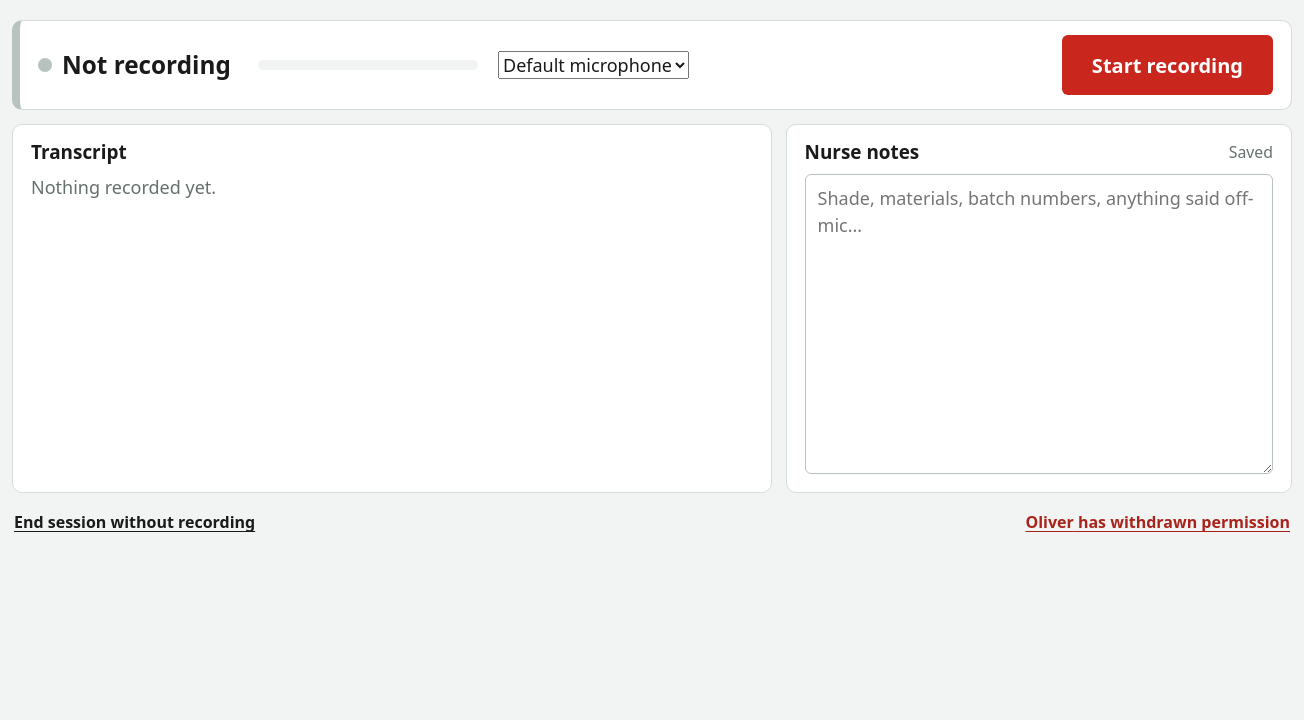
Scenario: scribe workspace › withdrawal stops at once and deletes the transcript and nurse notes
Click the button "Start recording" at (1167, 65), box 1062,35 -> 1273,95
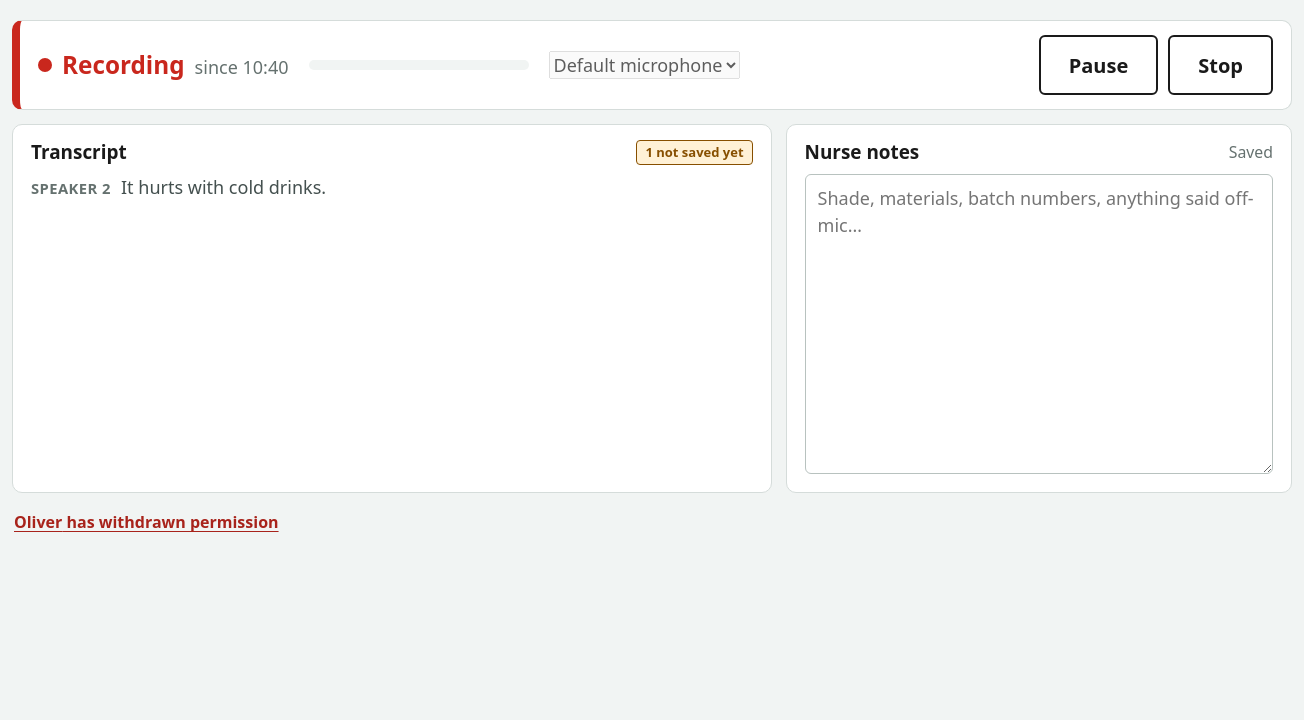
Click the button "Oliver has withdrawn permission" at (146, 523), box 12,507 -> 281,539
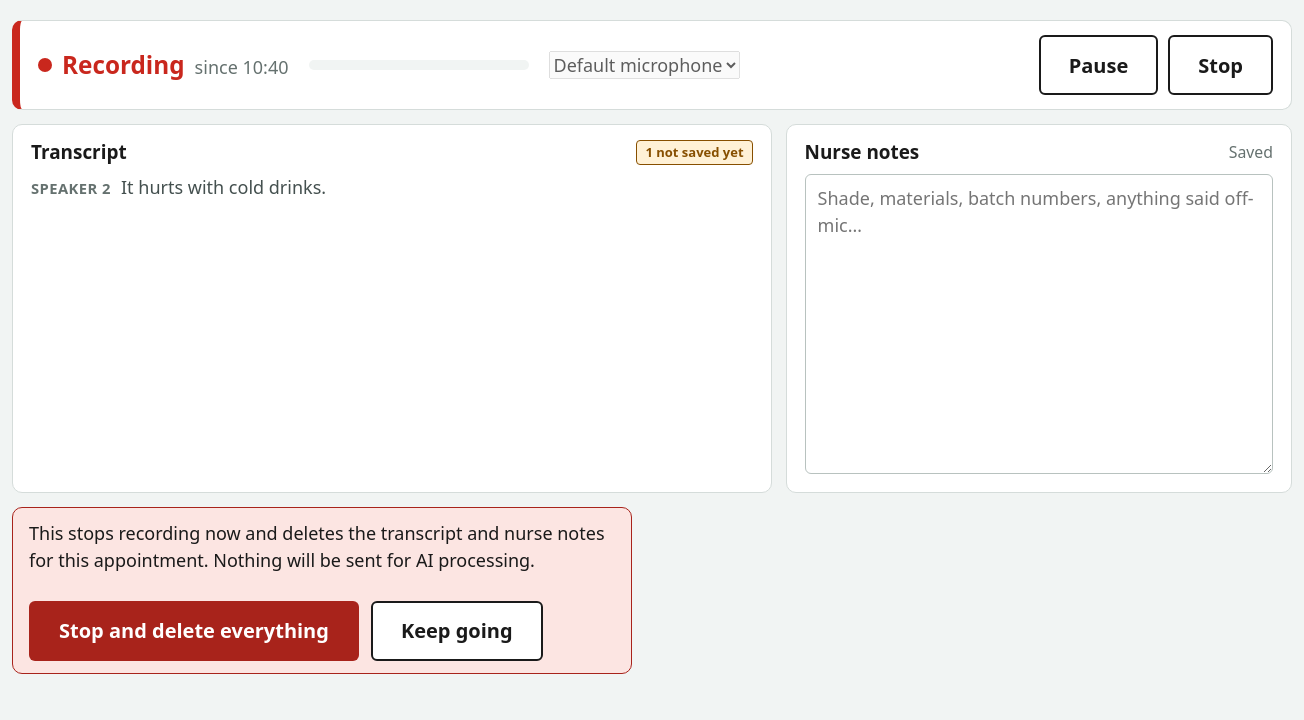
Click the button "Stop and delete everything" at (194, 631), box 29,601 -> 359,661
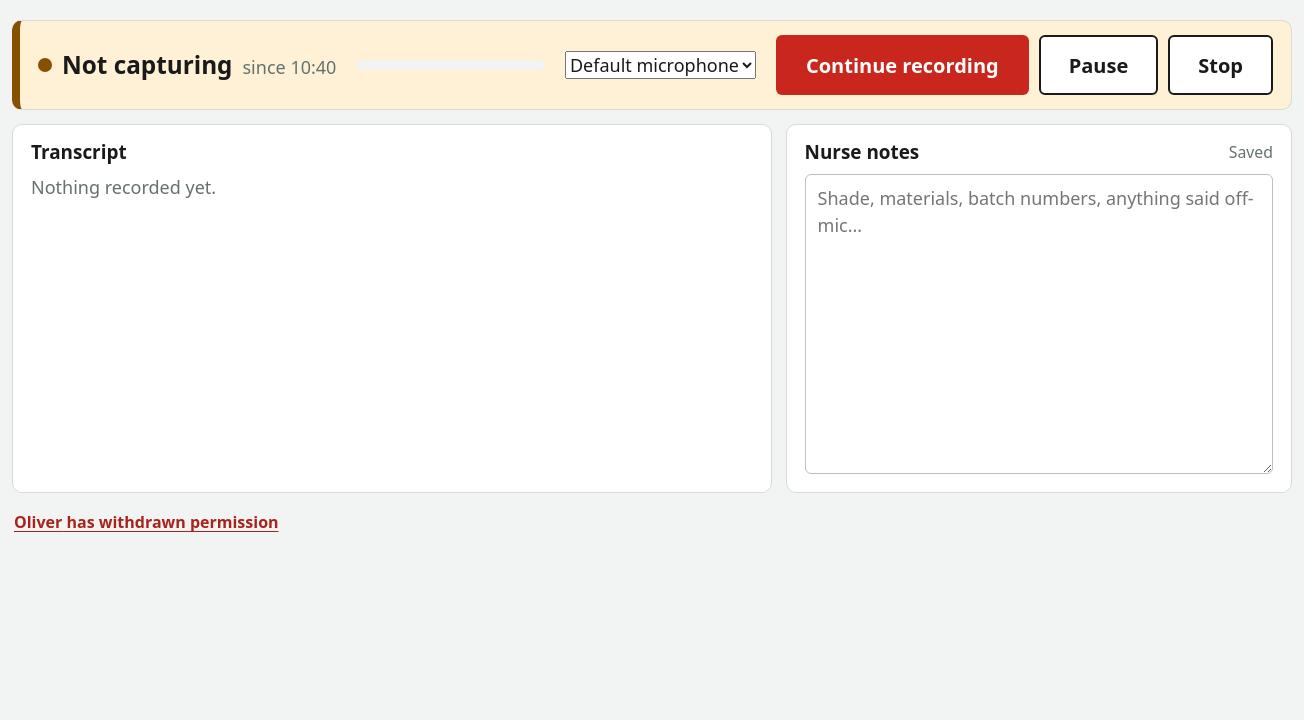
Result: the text "It hurts with cold drinks." is gone
